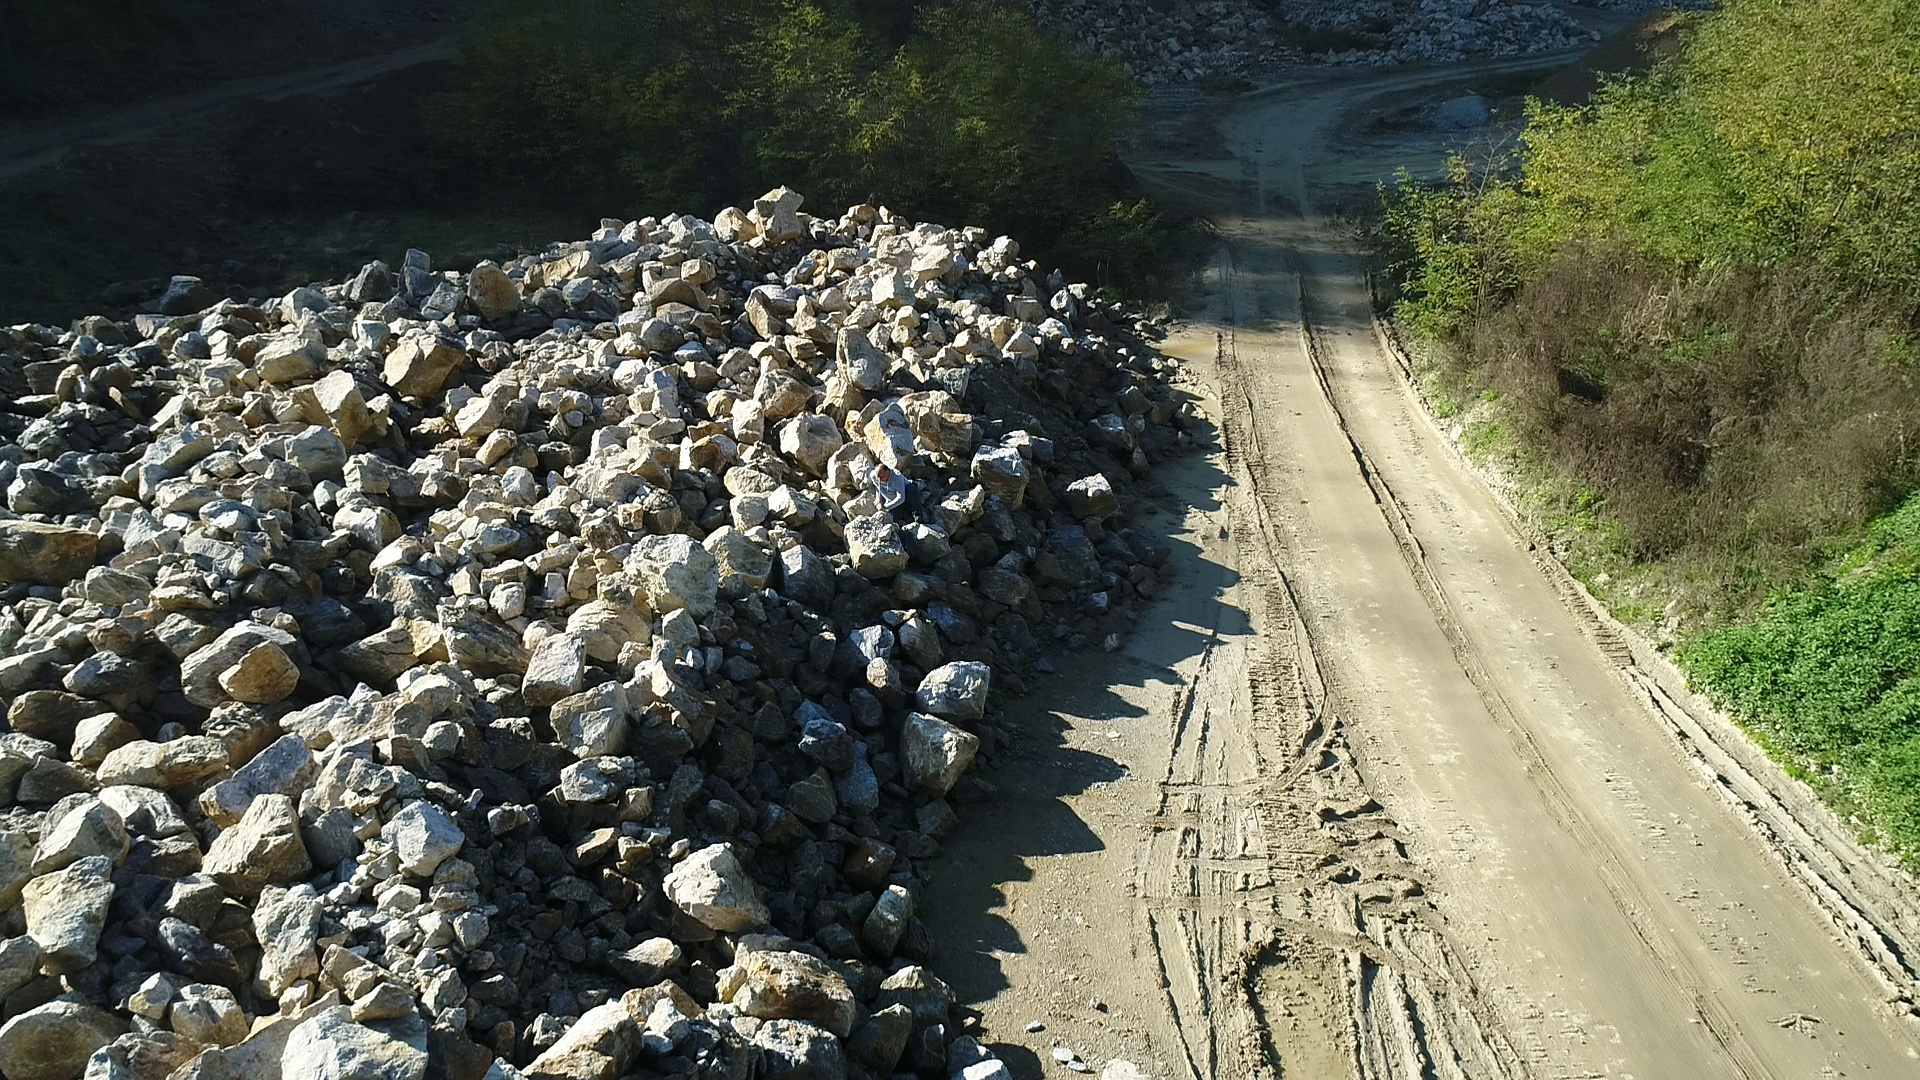not_defined: (868, 462, 924, 522)
